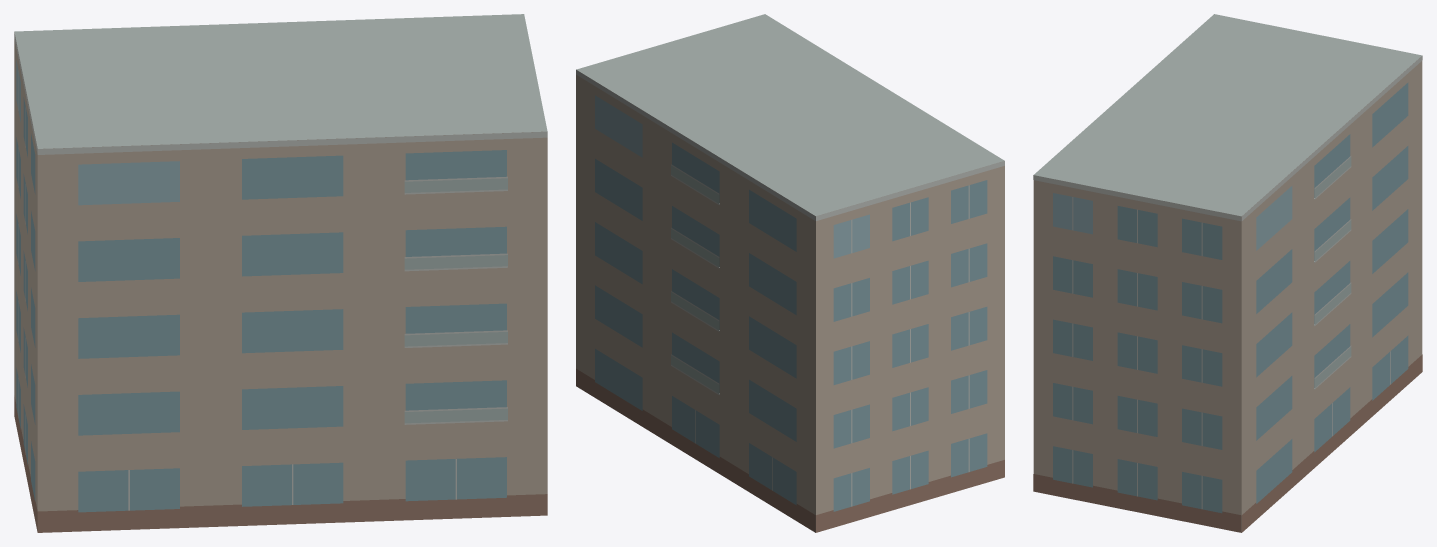
The model's file is survey-upis-32552445.glb.
3 renders of one model, left to right at view 1: azimuth 30°, elevation 25°; view 2: azimuth 150°, elevation 25°; view 3: azimuth 270°, elevation 25°, orthographic. The views are drawn at different scales.
Visible parts, largest first — view 1: survey-upis-32552445.tmp; view 2: survey-upis-32552445.tmp; view 3: survey-upis-32552445.tmp.
Boxes of the visible parts, x1,y1,x2,y2 form: survey-upis-32552445.tmp: (14,14,547,532); survey-upis-32552445.tmp: (576,14,1004,532); survey-upis-32552445.tmp: (1033,14,1422,532).
Bounding box in the file's own units: 21.13 × 15.4 × 17.16.
